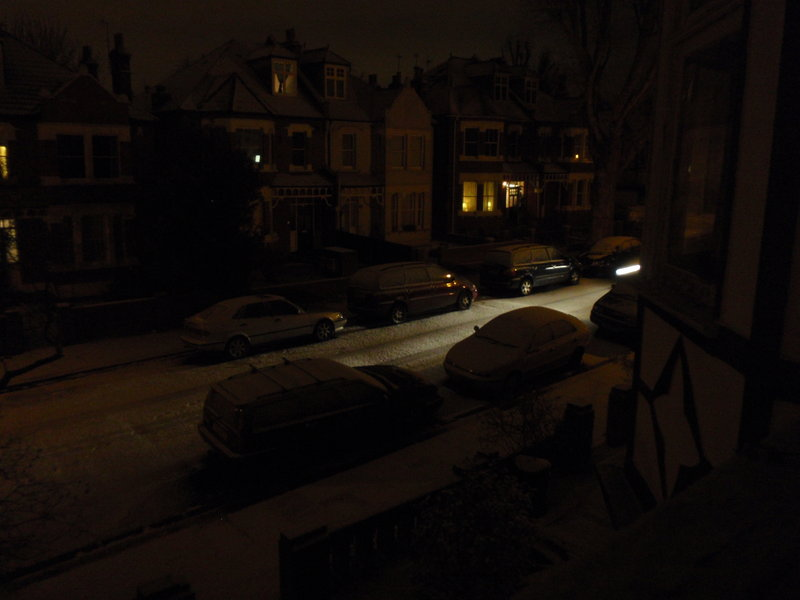car: (473, 239, 581, 306)
